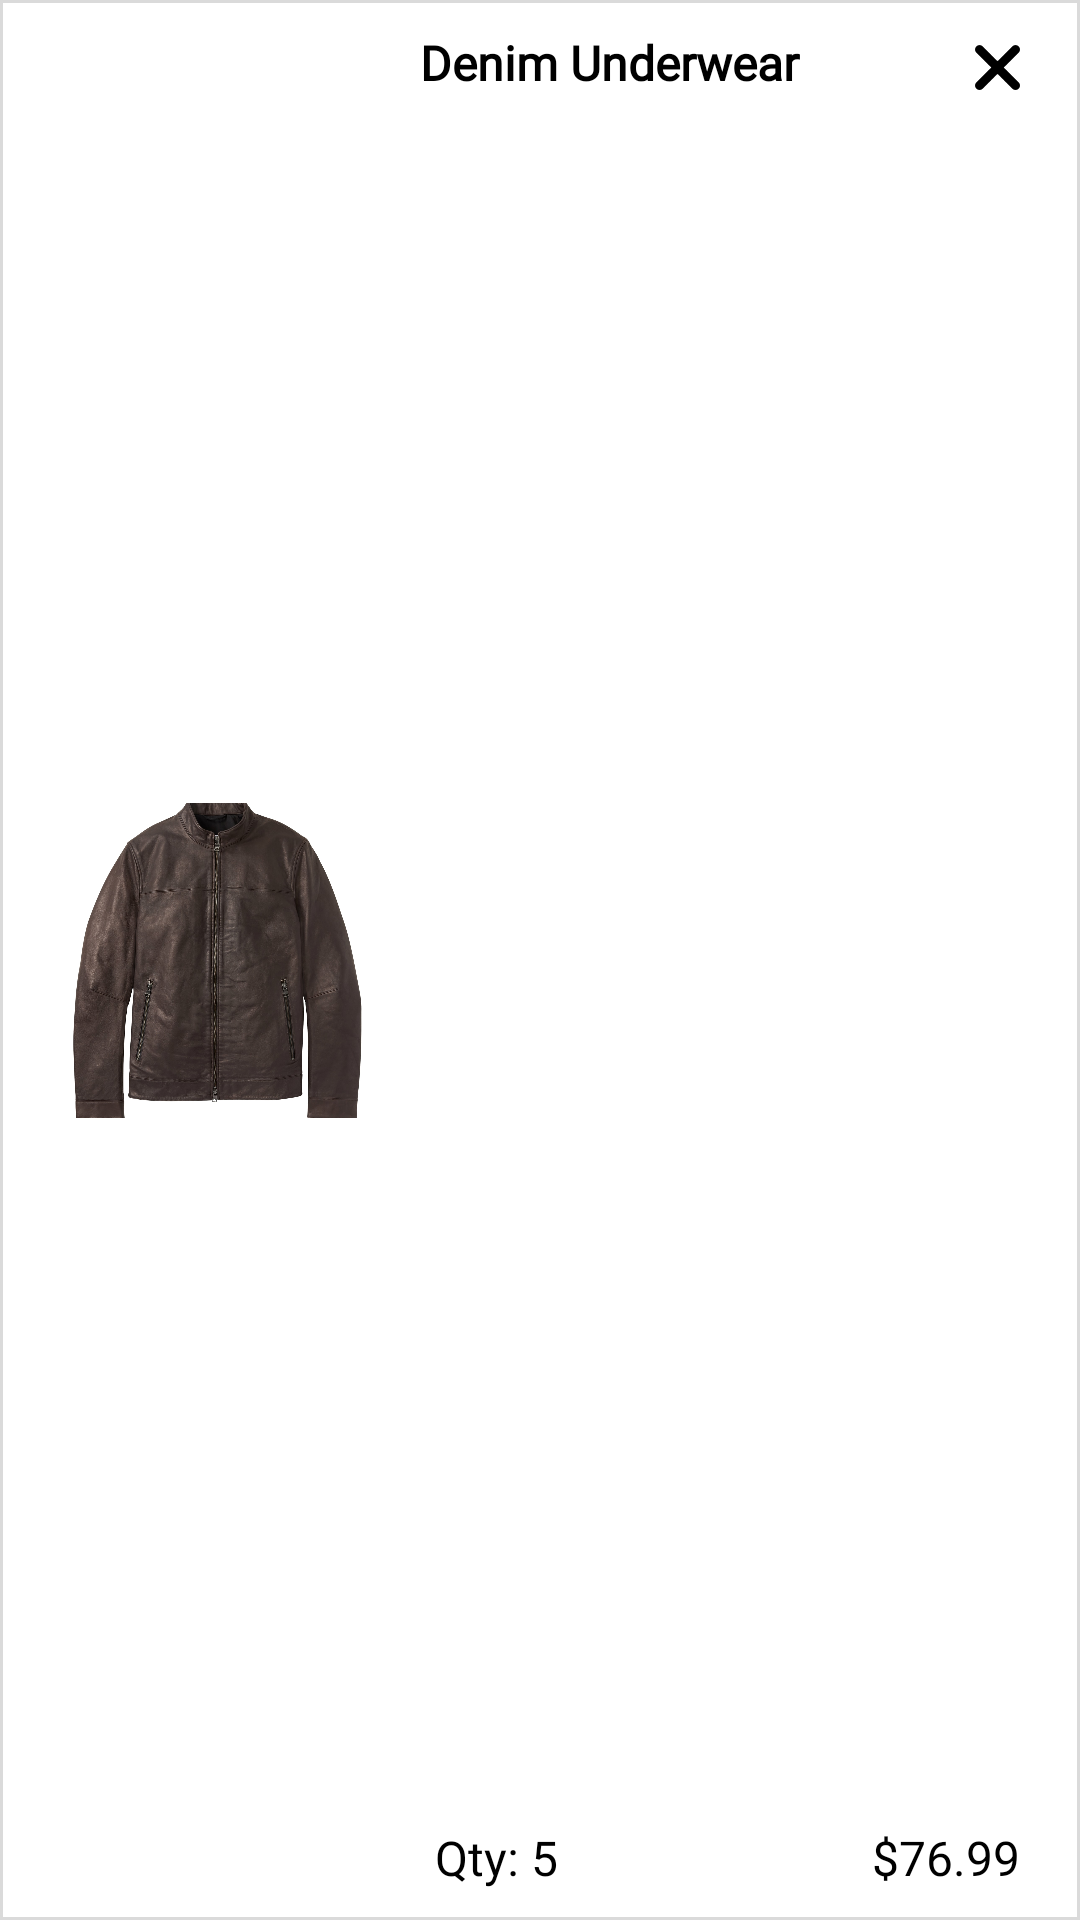

Named icons in this screenshot (1080×1920) and their centers, [x,y]:
close: [997,67]
jacket: [217,960]
